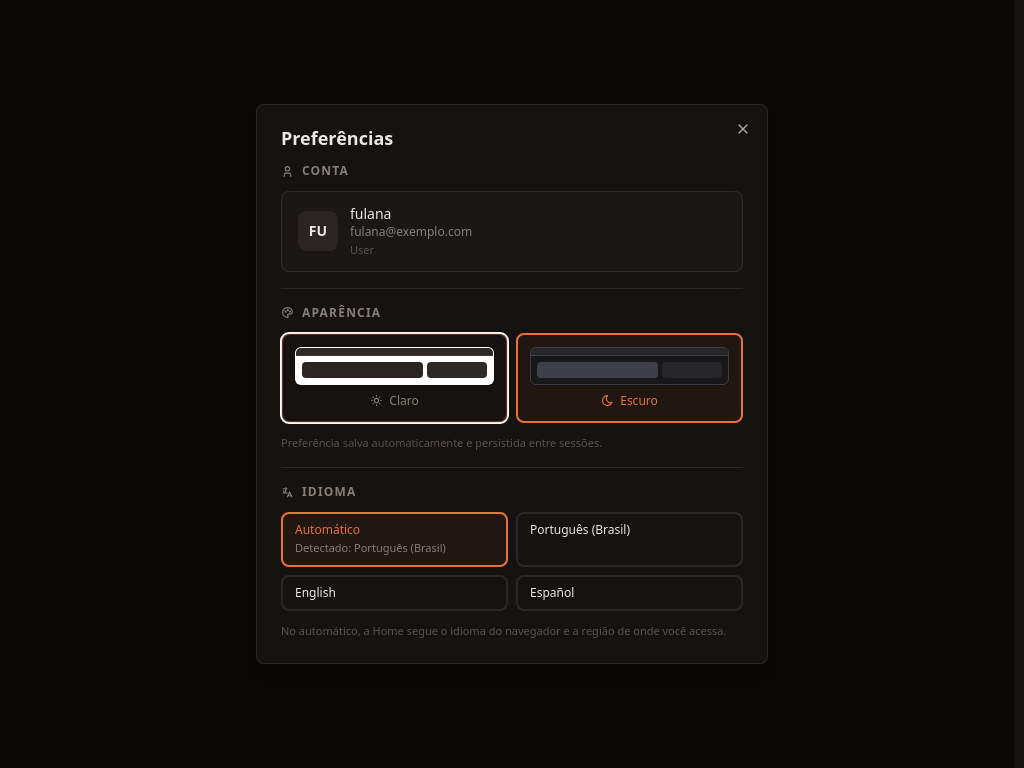
Preferências — Idioma › escolher English grava o cookie e a tela troca na hora
What coordinates should you click on to do the following:
click the button "English"
I would click on:
 (394, 592)
Its box is [281,574,508,610].
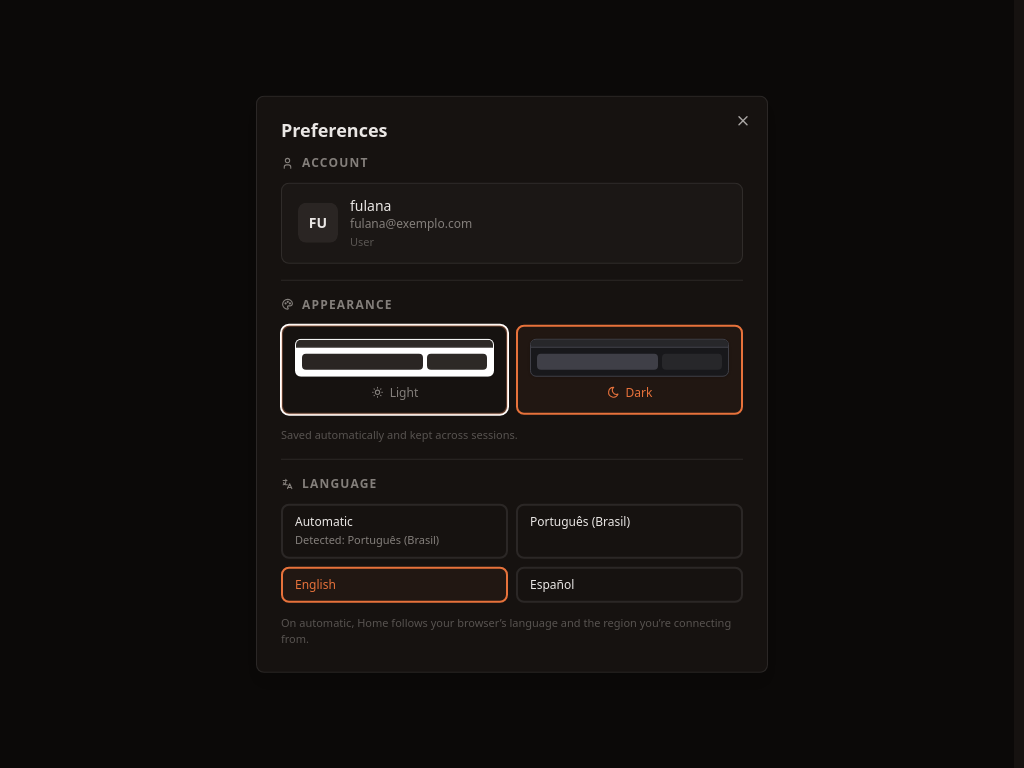
Now the heading "Preferences" is shown, box [281,118,388,142]
Now the text "Language" is shown, box [281,475,378,492]
